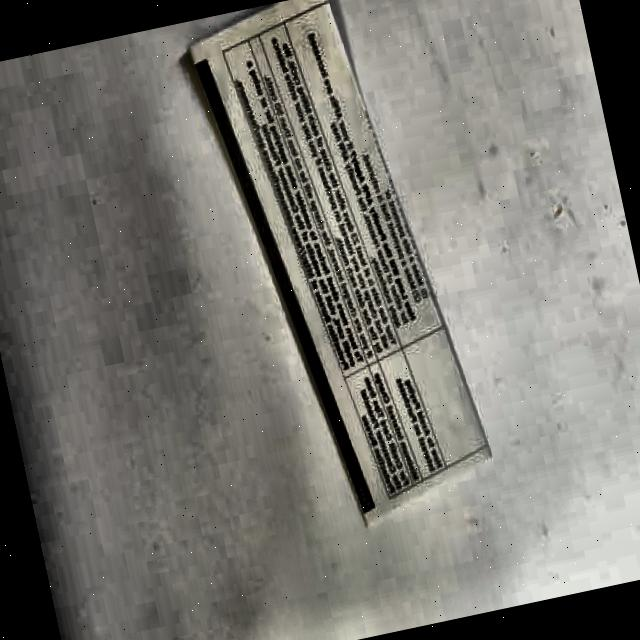paper: (184, 0, 498, 539)
